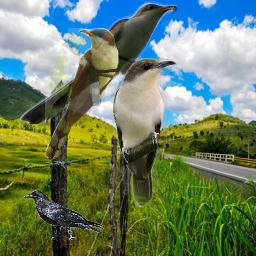Crow: (23, 190, 107, 241)
Cuckoo: (20, 1, 177, 124), (45, 28, 119, 162), (113, 58, 177, 208)
